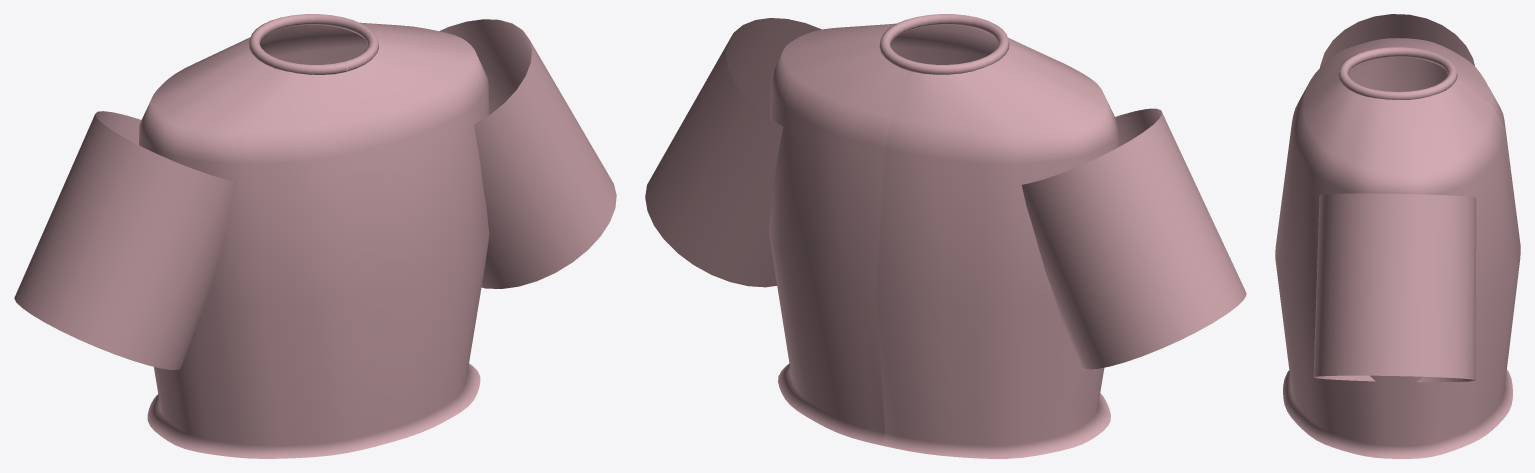
File: t-shirt-wild-cards-femme.glb
The picture shows the model from 3 angles, left to right: view 1: azimuth 30°, elevation 25°; view 2: azimuth 150°, elevation 25°; view 3: azimuth 270°, elevation 25°; orthographic projection. The views are drawn at different scales.
Parts seen in each view (by area): view 1: edit-02, short-sleeve (×2); view 2: edit-02, short-sleeve (×2); view 3: edit-02, short-sleeve (×2).
Boxes of the visible parts, left/top/right/bottom form: edit-02: left=139, top=14, right=489, bottom=458; short-sleeve (×2): left=14, top=19, right=616, bottom=369; edit-02: left=769, top=14, right=1118, bottom=458; short-sleeve (×2): left=645, top=18, right=1246, bottom=369; edit-02: left=1275, top=38, right=1520, bottom=458; short-sleeve (×2): left=1313, top=14, right=1476, bottom=382.
Size of the model in its own units: 0.6966 by 0.4165 by 0.287.
